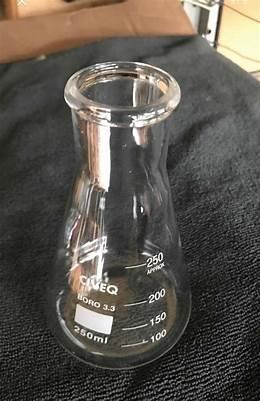Titrarion: (51, 48, 192, 372)
